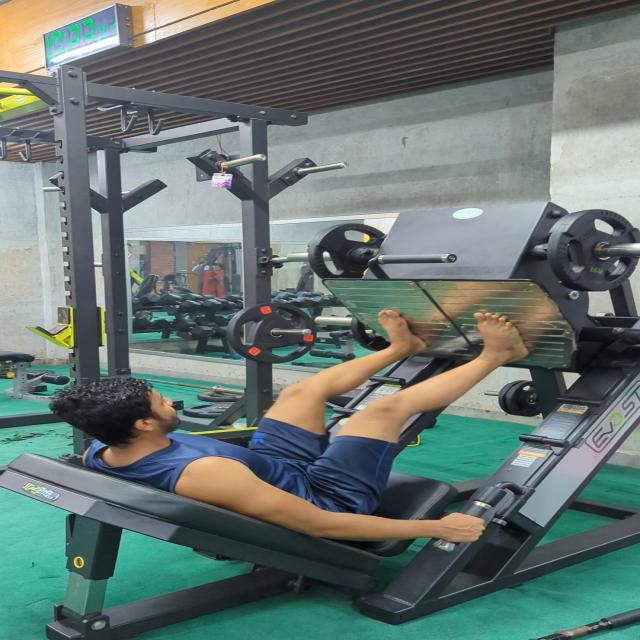Normal_LegPress: (51, 302, 536, 552)
